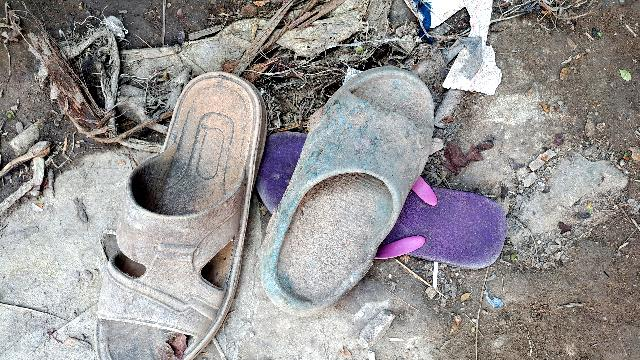sandal: (210, 45, 461, 339), (89, 56, 275, 360), (236, 121, 513, 290)
